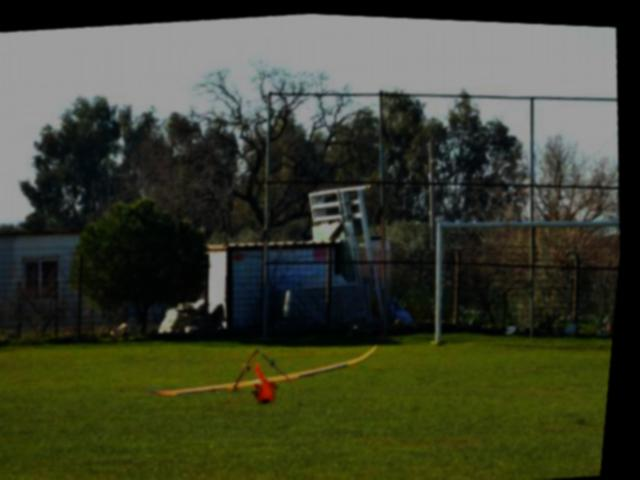iha: (145, 322, 396, 425)
